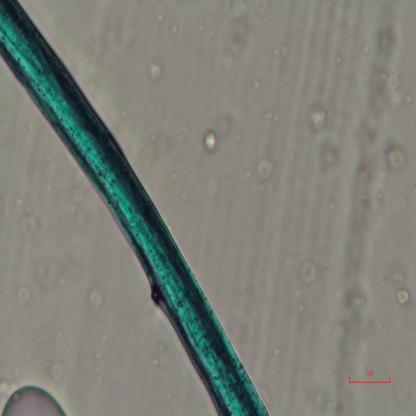Air bubble: (0, 384, 67, 416)
Background material: (340, 121, 382, 328), (5, 180, 46, 244), (219, 1, 249, 74), (370, 18, 406, 69), (30, 242, 60, 294), (139, 89, 168, 134), (142, 334, 168, 370), (376, 70, 402, 106), (319, 145, 347, 169), (298, 257, 320, 287), (387, 144, 408, 173), (308, 103, 327, 134), (84, 289, 106, 314), (393, 284, 413, 311), (203, 130, 222, 154), (147, 57, 164, 83), (15, 284, 33, 307), (49, 360, 66, 384), (260, 157, 276, 182), (292, 297, 306, 316), (276, 41, 288, 61), (263, 108, 282, 120), (249, 72, 260, 92), (169, 21, 179, 36), (193, 20, 204, 33), (334, 51, 342, 65), (245, 169, 254, 180)
Microfibre: (0, 0, 270, 416)
